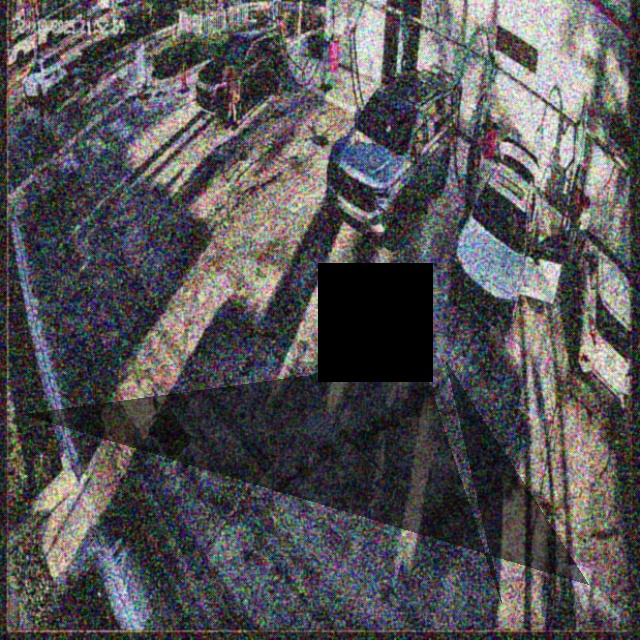Car: (453, 136, 562, 339), (325, 70, 454, 241)
